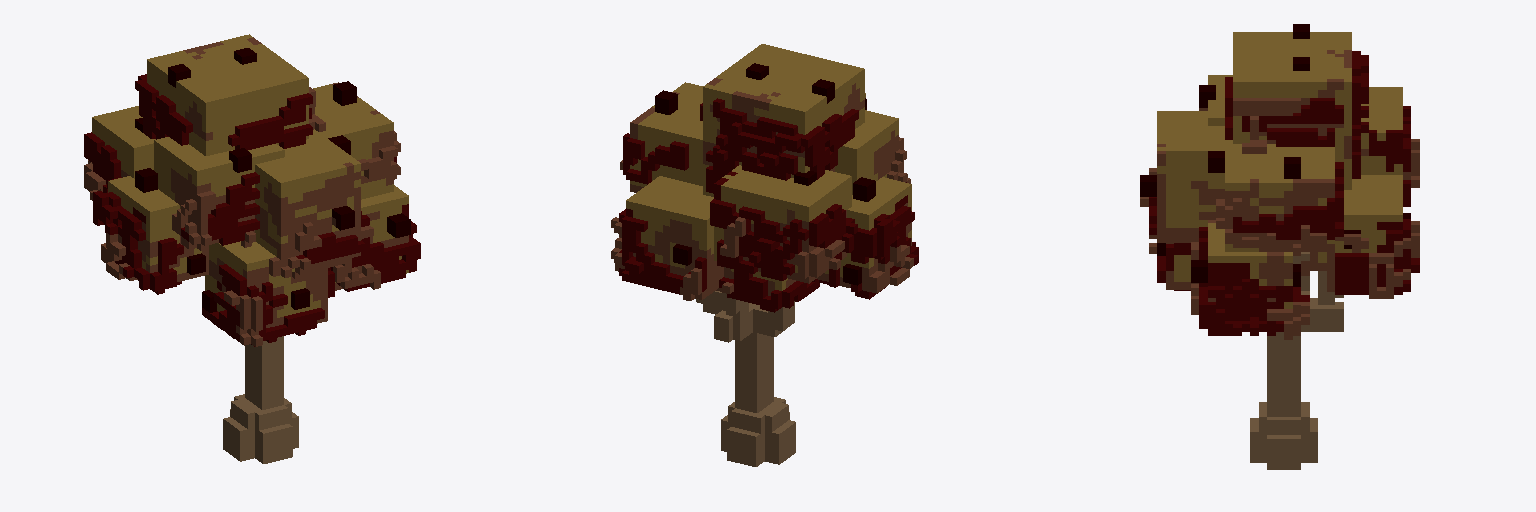
The picture shows the model from 3 angles: view 1: azimuth 30°, elevation 25°; view 2: azimuth 150°, elevation 25°; view 3: azimuth 270°, elevation 25°; orthographic projection.
Visible parts, largest first — view 1: object 1; view 2: object 1; view 3: object 1.
Part boxes in pixels (x1,y1,x2,y2): object 1: (84,34,420,463); object 1: (611,44,918,466); object 1: (1140,24,1419,469).
Size of the model in its own units: 3.8 by 5.1 by 3.3.
1 materials, 1 textured.